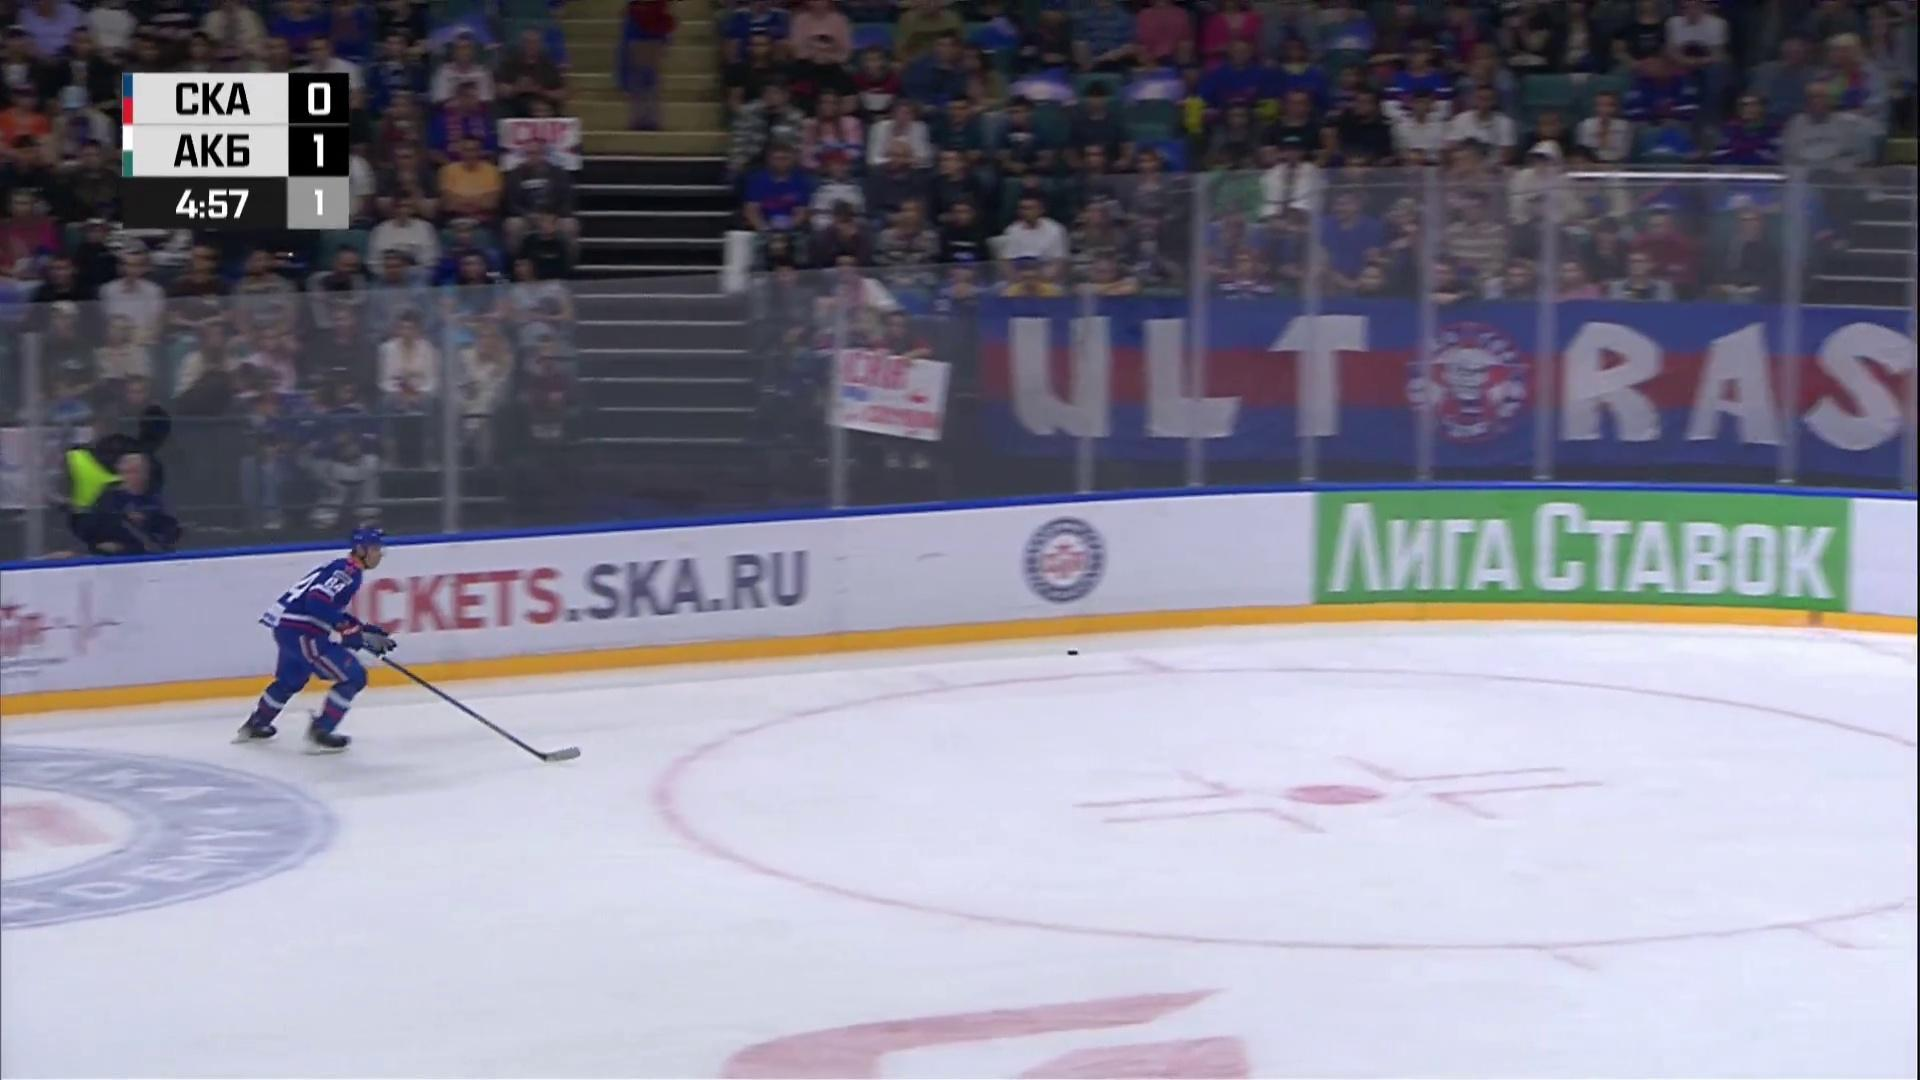ball: (1067, 650, 1080, 655)
